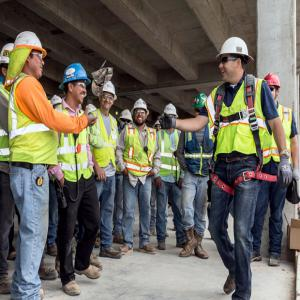red: (264, 73, 281, 104)
white: (14, 32, 46, 78), (219, 37, 251, 82), (99, 82, 116, 112), (2, 44, 16, 79), (134, 100, 148, 125), (165, 104, 178, 125), (120, 110, 133, 129), (51, 95, 63, 112), (155, 120, 163, 133)
